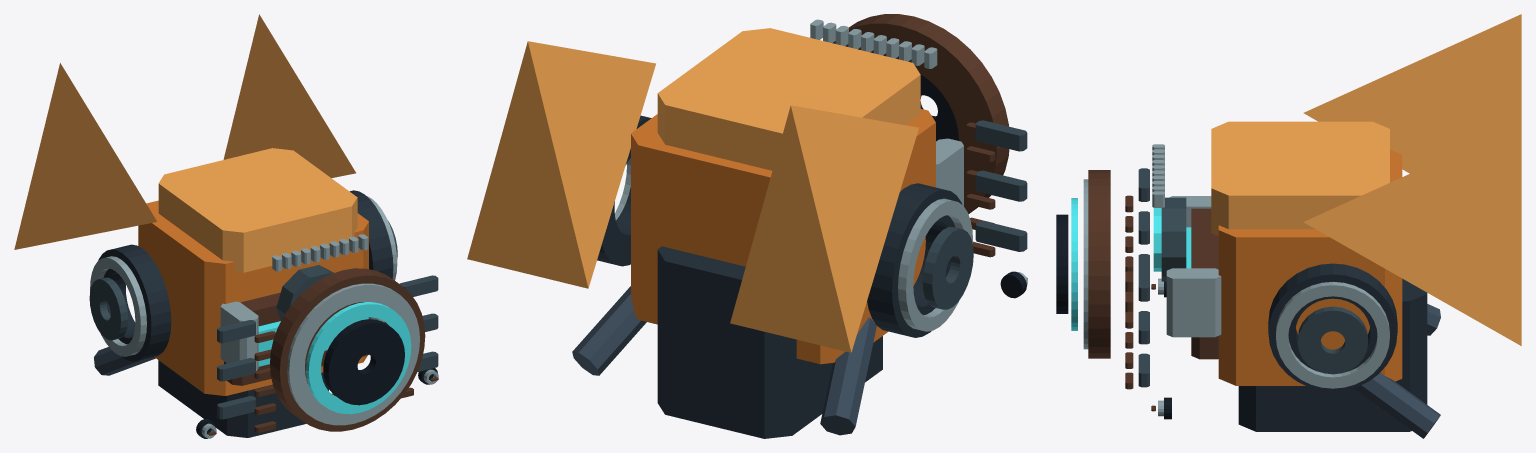
File: enemy_runner_4k_head.obj
The picture shows the model from 3 angles, left to right: view 1: azimuth 30°, elevation 25°; view 2: azimuth 150°, elevation 25°; view 3: azimuth 270°, elevation 25°; orthographic projection. The views are drawn at different scales.
Bounding box in the file's own units: 0.76 × 0.745 × 0.937.
